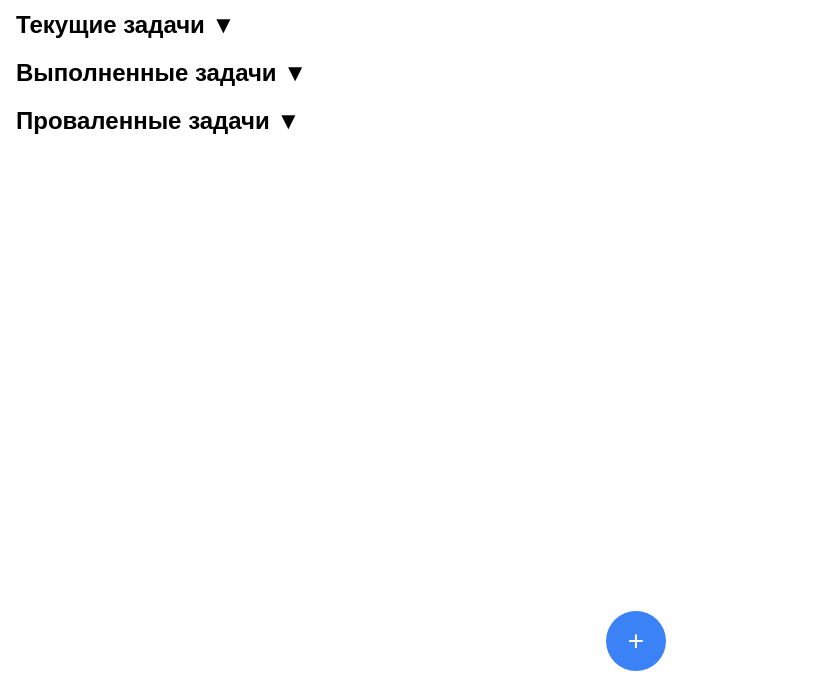
Test: Форма добавления задачи: поля и кнопка
Click the button "+": (636, 641) [606, 611, 666, 671]
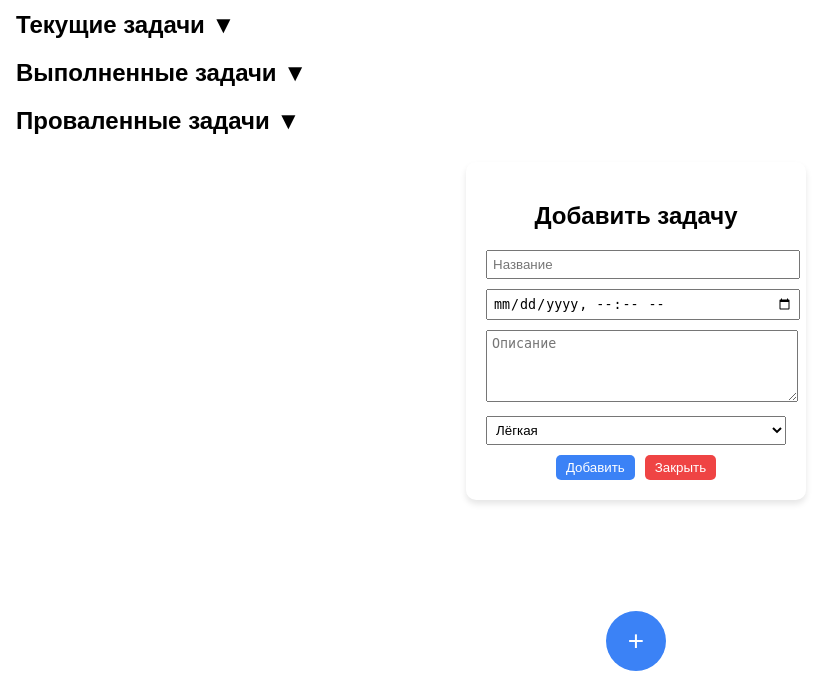
Expected: the field with placeholder "Название" is shown, [486, 250, 800, 279]
Expected: the button "Добавить" is shown, [556, 455, 635, 480]
